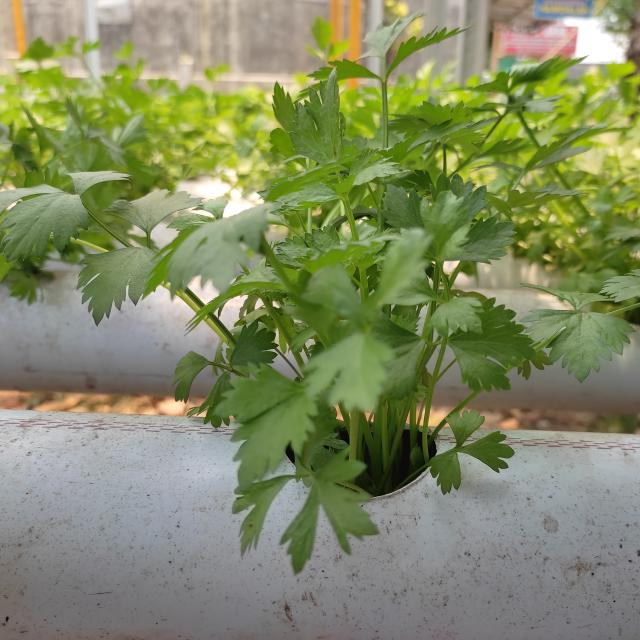Wet Waste: (7, 20, 627, 577)
